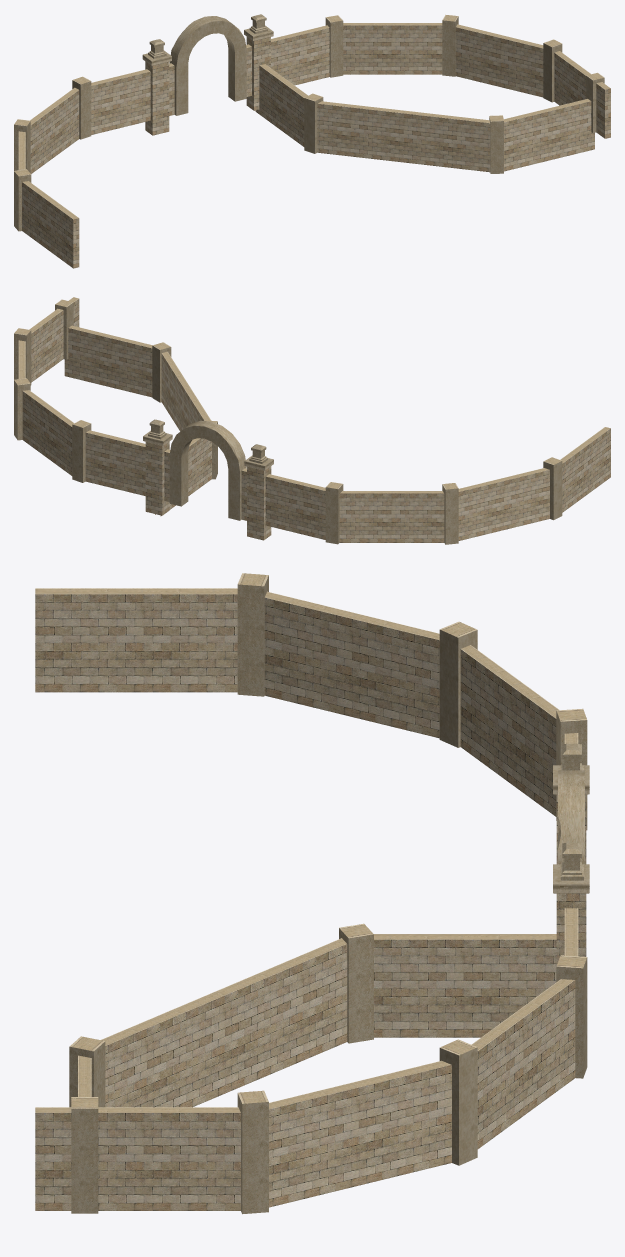
The model's file is poi_nboo_corral_half_64x64_s02_l0.fbx.
The picture shows the model from 3 angles, top to bottom: view 1: azimuth 30°, elevation 25°; view 2: azimuth 150°, elevation 25°; view 3: azimuth 270°, elevation 25°; orthographic projection. The views are drawn at different scales.
Visible parts, largest first — view 1: mesh_node; view 2: mesh_node; view 3: mesh_node.
Boxes of the visible parts, x1=… form: mesh_node: x1=14, y1=14, x2=610, y2=268; mesh_node: x1=14, y1=297, x2=610, y2=544; mesh_node: x1=35, y1=573, x2=589, y2=1214.
Bounding box in the file's own units: 46.43 × 8.5 × 20.48.
